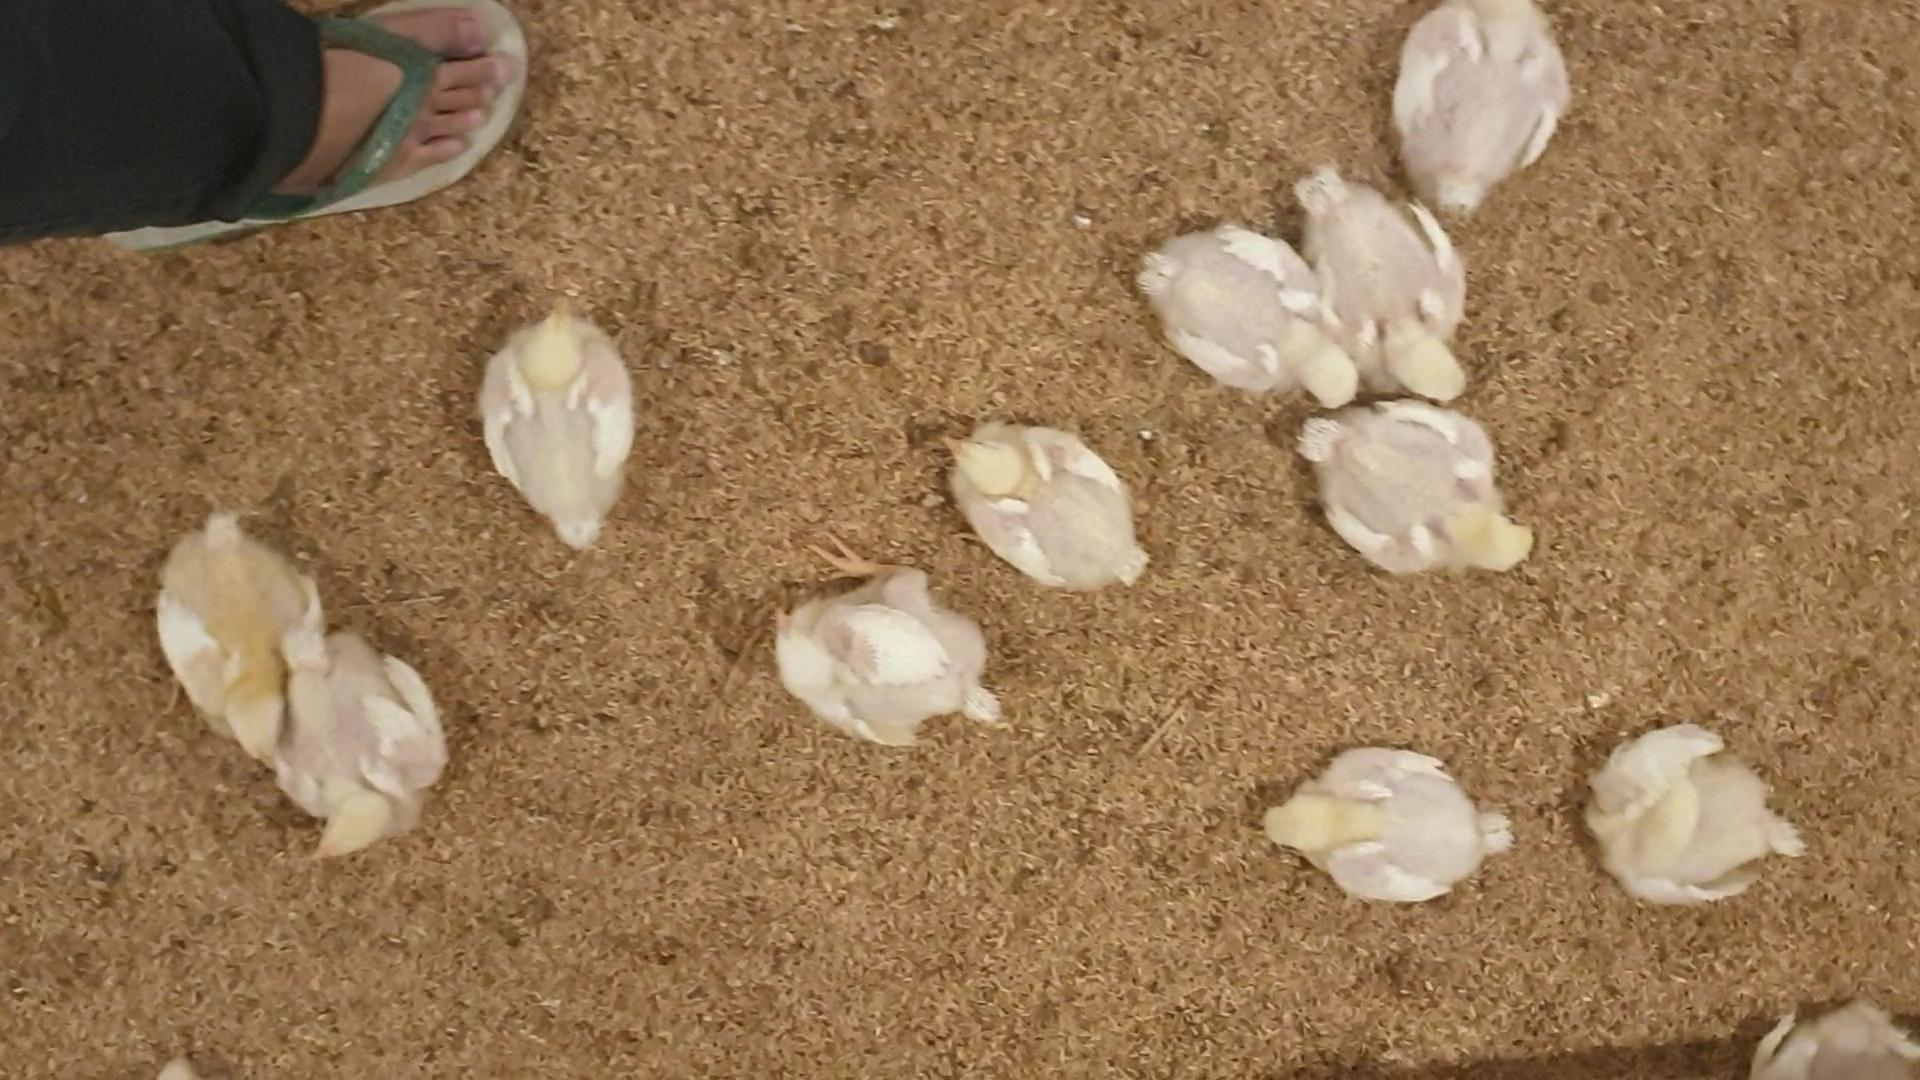Pollos: (770, 559, 1007, 740), (286, 626, 455, 866), (1296, 415, 1538, 582), (1588, 729, 1818, 902), (1149, 225, 1361, 407), (1273, 752, 1516, 909), (1403, 3, 1575, 216), (938, 414, 1156, 580), (484, 305, 640, 535), (169, 521, 309, 760), (1353, 225, 1481, 396)
